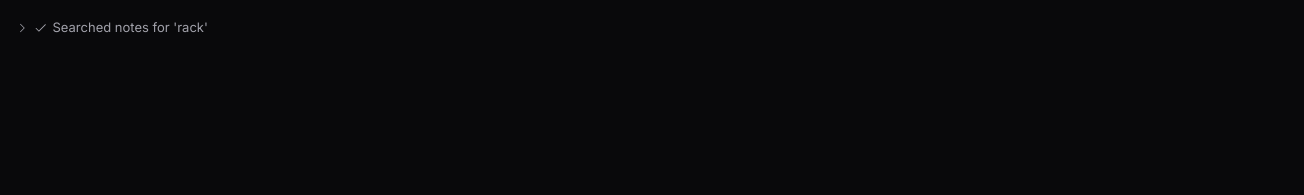
Test case: ToolStep › test collapsed to one line, expands to input and result
Expected: the text "Input" is not shown
Expected: the 2nd picture is shown, [34,21,47,34]
Click the button "Searched notes for 'rack'" at (130, 27), box [12,16,1292,39]
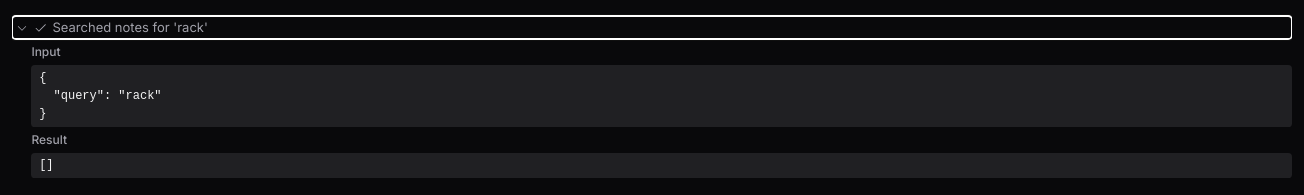
Expected: the button "Searched notes for 'rack'" is expanded
Expected: the text "Input" is shown, [31,44,61,59]
Expected: the text "Result" is shown, [31,132,67,147]
Click the button "Searched notes for 'rack'" at (130, 27), box [12,16,1292,39]
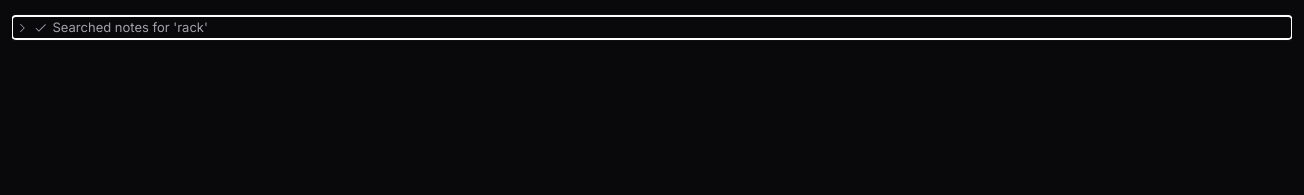
Expected: the button "Searched notes for 'rack'" is collapsed, [12,16,1292,39]
Expected: the text "Input" is gone
